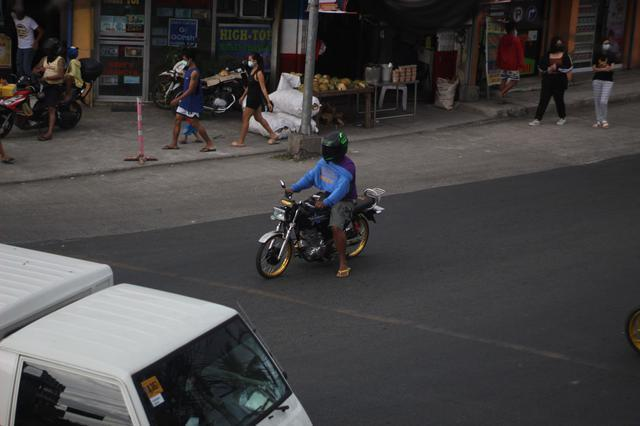helmet: (320, 131, 349, 164)
motorcycle: (255, 137, 383, 279)
